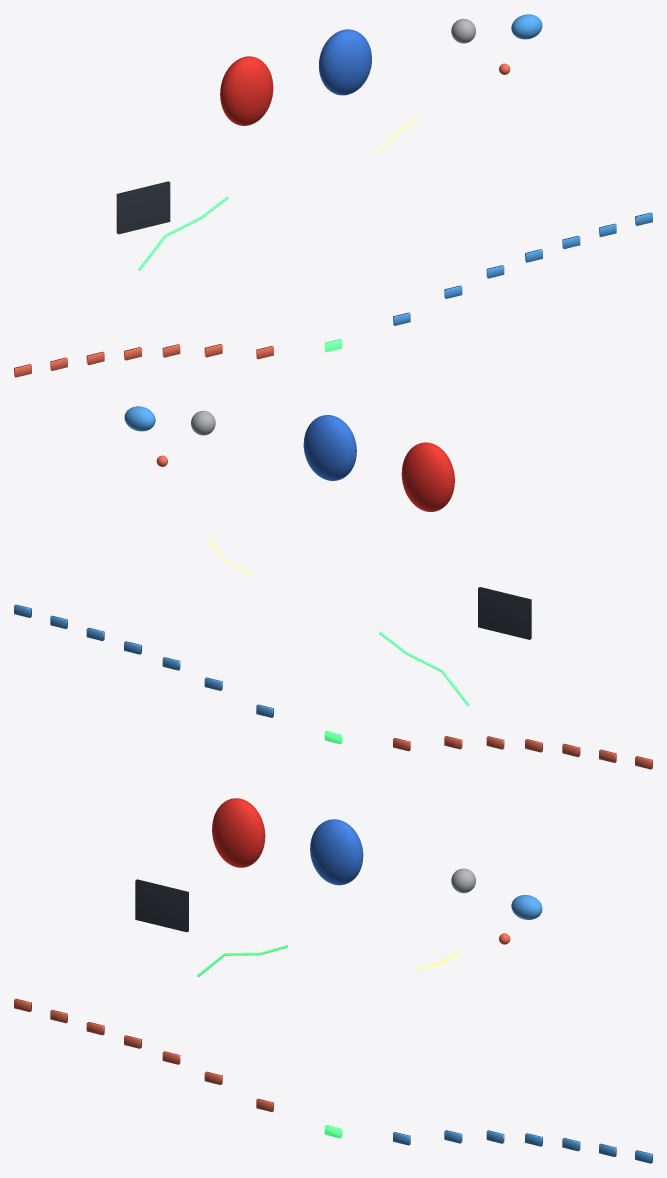
The model's file is acide_base_premium.glb.
The picture shows the model from 3 angles, top to bottom: view 1: azimuth 30°, elevation 25°; view 2: azimuth 150°, elevation 25°; view 3: azimuth 330°, elevation 25°; orthographic projection.
Parts seen in each view (by area): view 1: BIO_sang_arteriel_pH_7_39, BIO_sang_veineux_pH_7_36, INFO_plan_Davenport, MOLECULE_HCO3_bicarbonate; view 2: BIO_sang_arteriel_pH_7_39, BIO_sang_veineux_pH_7_36, INFO_plan_Davenport, MOLECULE_HCO3_bicarbonate; view 3: BIO_sang_arteriel_pH_7_39, BIO_sang_veineux_pH_7_36, INFO_plan_Davenport, MOLECULE_HCO3_bicarbonate.
Boxes of the visible parts, bbox=[...] form: BIO_sang_arteriel_pH_7_39: bbox=[220, 56, 273, 125]; BIO_sang_veineux_pH_7_36: bbox=[319, 29, 371, 95]; INFO_plan_Davenport: bbox=[116, 181, 170, 234]; MOLECULE_HCO3_bicarbonate: bbox=[511, 14, 542, 39]; BIO_sang_arteriel_pH_7_39: bbox=[401, 442, 454, 511]; BIO_sang_veineux_pH_7_36: bbox=[303, 415, 356, 480]; INFO_plan_Davenport: bbox=[478, 587, 531, 639]; MOLECULE_HCO3_bicarbonate: bbox=[124, 406, 155, 431]; BIO_sang_arteriel_pH_7_39: bbox=[212, 798, 265, 867]; BIO_sang_veineux_pH_7_36: bbox=[310, 819, 363, 885]; INFO_plan_Davenport: bbox=[135, 879, 188, 932]; MOLECULE_HCO3_bicarbonate: bbox=[511, 895, 542, 919].
Bounding box in the file's own units: 7.14 × 3.43 × 0.8539.
